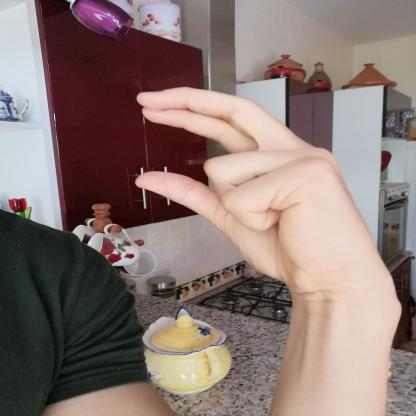DHELL: (117, 76, 409, 300)
